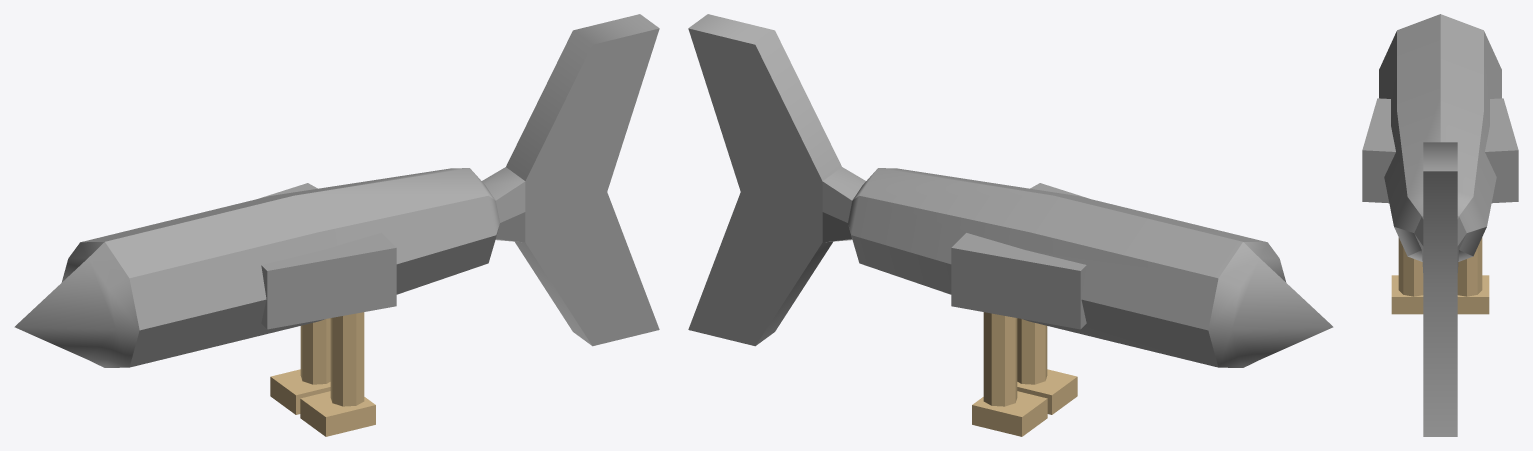
The model's file is fishlegs.fbx.
3 renders of one model, left to right at view 1: azimuth 30°, elevation 25°; view 2: azimuth 150°, elevation 25°; view 3: azimuth 270°, elevation 25°, orthographic. The views are drawn at different scales.
Visible parts, largest first — view 1: pCylinder3; view 2: pCylinder3; view 3: pCylinder3.
Boxes of the visible parts, x1,y1,x2,y2 form: pCylinder3: [14, 14, 659, 436]; pCylinder3: [688, 14, 1333, 436]; pCylinder3: [1362, 14, 1518, 436].
Size of the model in its own units: 5.23 by 2.43 by 1.26.
